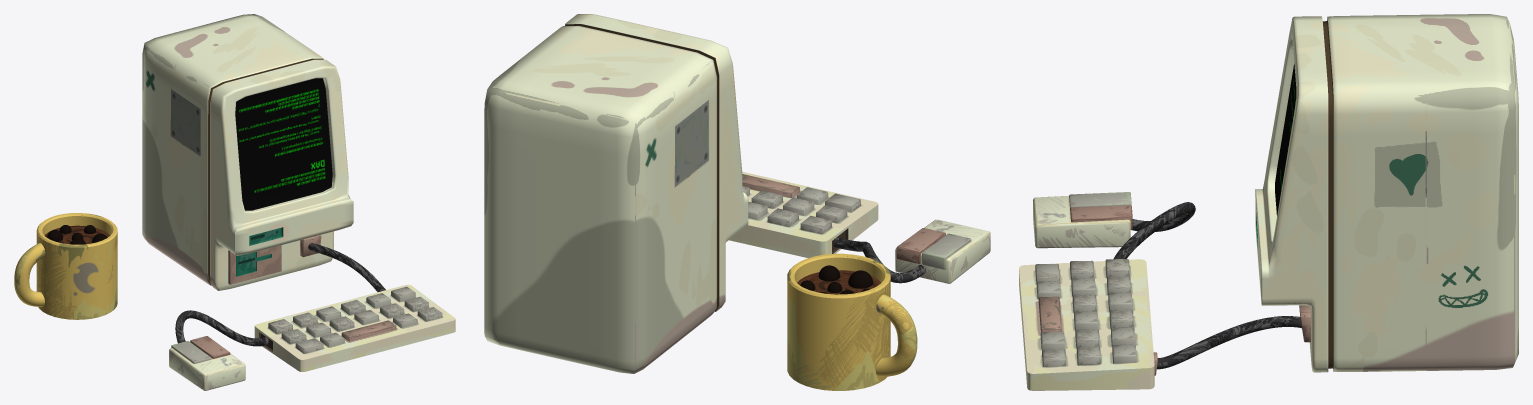
Rendered from Ordenador.obj.
3 views of the same model, side by side, from view 1: azimuth 30°, elevation 25°; view 2: azimuth 150°, elevation 25°; view 3: azimuth 270°, elevation 25° (orthographic). The views are drawn at different scales.
Visible parts, largest first — view 1: Ordenador, Ordenador.001, Cafe, Teclado, Raton, Decoracion_Ordenador, Asa_Cafe, Cable_Raton, Cable_Teclado, Tecla.016, Click_Izquierdo, Click_Derecho; view 2: Ordenador, Cafe, Teclado, Raton, Asa_Cafe, Click_Derecho, Click_Izquierdo, Cable_Raton, Tecla.016, Tecla, Tecla.015, Tecla.014; view 3: Ordenador, Teclado, Raton, Cable_Teclado, Cable_Raton, Ordenador.001, Click_Derecho, Click_Izquierdo, Tecla.016, Tecla.005, Tecla.011, Tecla.007 (+10 smaller).
Part boxes in pixels (left/top/right/bottom): Ordenador: left=142, top=14, right=353, bottom=290; Ordenador.001: left=235, top=78, right=332, bottom=210; Cafe: left=36, top=213, right=117, bottom=319; Teclado: left=254, top=284, right=455, bottom=371; Raton: left=169, top=348, right=245, bottom=390; Decoracion_Ordenador: left=228, top=245, right=281, bottom=284; Asa_Cafe: left=14, top=243, right=45, bottom=306; Cable_Raton: left=175, top=310, right=268, bottom=346; Cable_Teclado: left=308, top=243, right=385, bottom=291; Tecla.016: left=341, top=320, right=396, bottom=341; Click_Izquierdo: left=171, top=341, right=211, bottom=363; Click_Derecho: left=190, top=336, right=230, bottom=358; Ordenador: left=484, top=14, right=748, bottom=373; Cafe: left=787, top=253, right=890, bottom=390; Teclado: left=729, top=172, right=878, bottom=257; Raton: left=895, top=219, right=990, bottom=283; Asa_Cafe: left=875, top=294, right=917, bottom=376; Click_Derecho: left=896, top=228, right=945, bottom=263; Click_Izquierdo: left=922, top=233, right=971, bottom=269; Cable_Raton: left=833, top=237, right=925, bottom=283; Tecla.016: left=742, top=174, right=799, bottom=197; Tecla: left=825, top=193, right=860, bottom=212; Tecla.015: left=767, top=208, right=798, bottom=226; Tecla.014: left=800, top=215, right=831, bottom=234; Ordenador: left=1255, top=14, right=1518, bottom=372; Teclado: left=1019, top=259, right=1154, bottom=390; Raton: left=1033, top=195, right=1130, bottom=248; Cable_Teclado: left=1157, top=316, right=1301, bottom=369; Cable_Raton: left=1113, top=202, right=1195, bottom=259; Ordenador.001: left=1275, top=64, right=1296, bottom=215; Click_Derecho: left=1070, top=205, right=1132, bottom=229; Click_Izquierdo: left=1069, top=192, right=1131, bottom=208; Tecla.016: left=1038, top=296, right=1061, bottom=332; Tecla.005: left=1076, top=346, right=1101, bottom=365; Tecla.011: left=1112, top=344, right=1136, bottom=363; Tecla.007: left=1074, top=311, right=1098, bottom=330.
Bounding box in the file's own units: 5.65 × 3.47 × 5.52.
